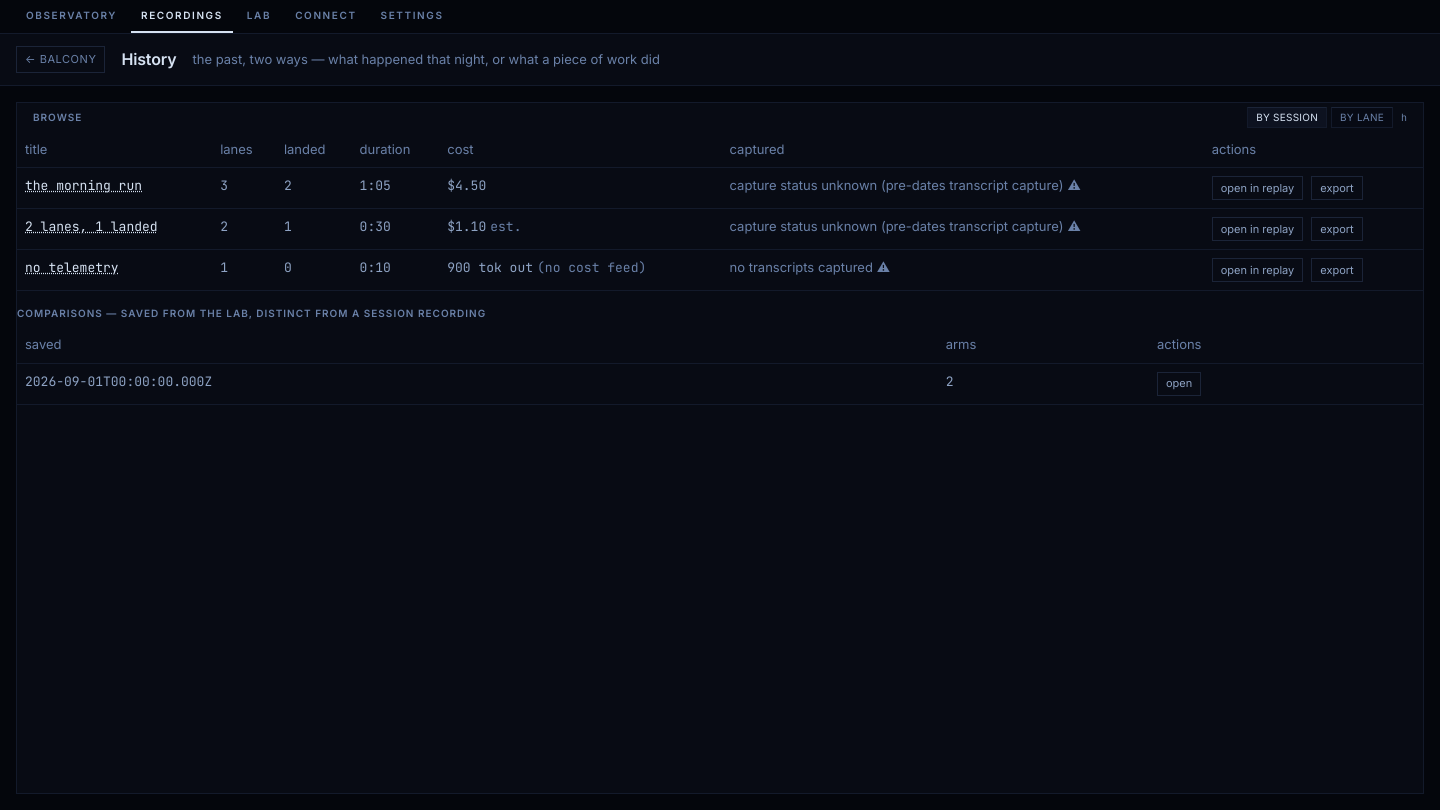
RecordingsPage › comparisons (prd-14 ruling 5, #214) › a saved "verified" comparison, reopened, never renders a numeric spread over its 1/0 encoding
Expected: the table with test id "comparisons-table" is shown, [17,327,1423,404]
What coordinates should you click on to do the following:
click the button with test id "comparison-open-c1"
I would click on:
 (1179, 384)
Its box is [1157,372,1201,396].
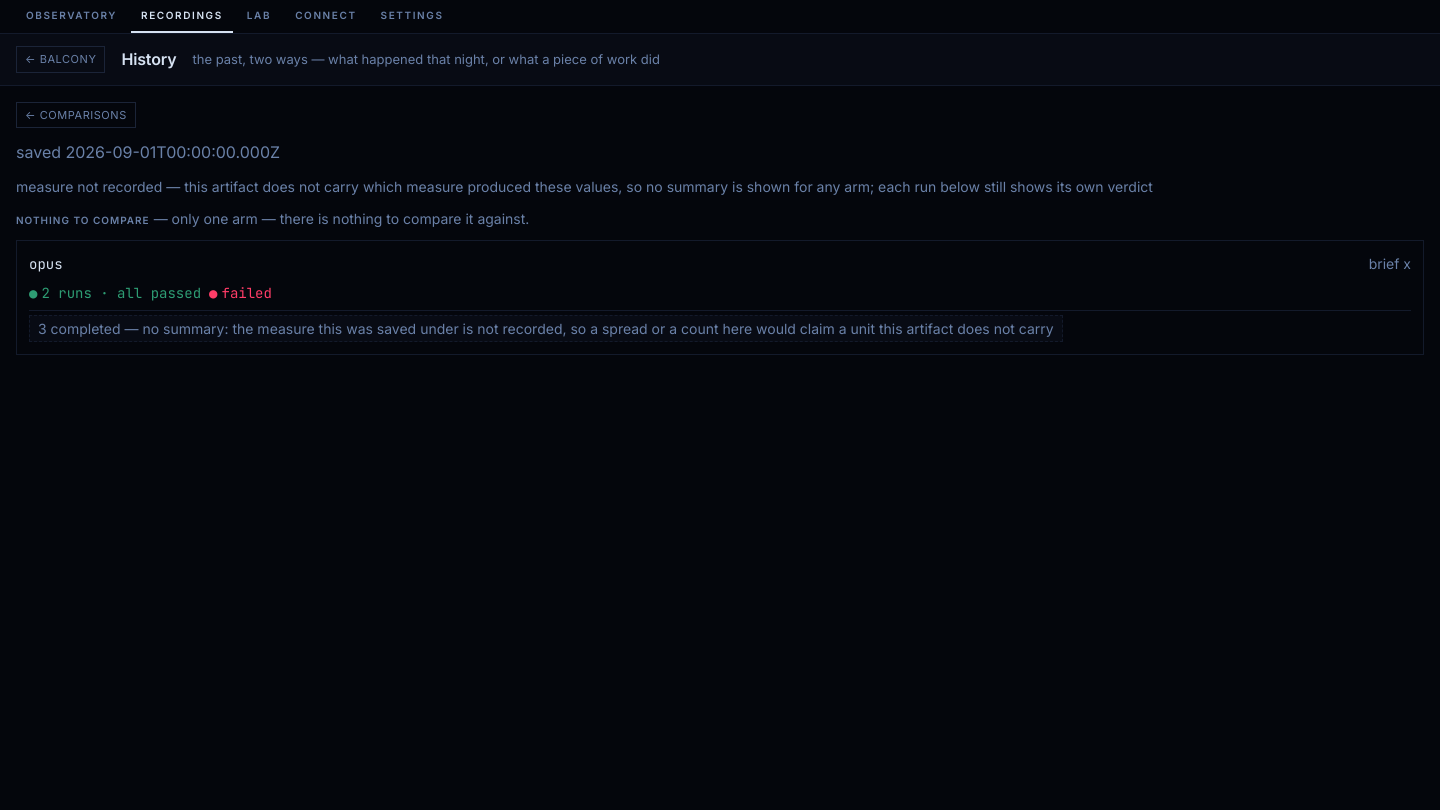
Expected: the element with test id "comparison-surface" is shown, [16,176,1424,355]
Expected: the message with test id "arm-basis-unknown" is shown, [29,315,1063,342]
